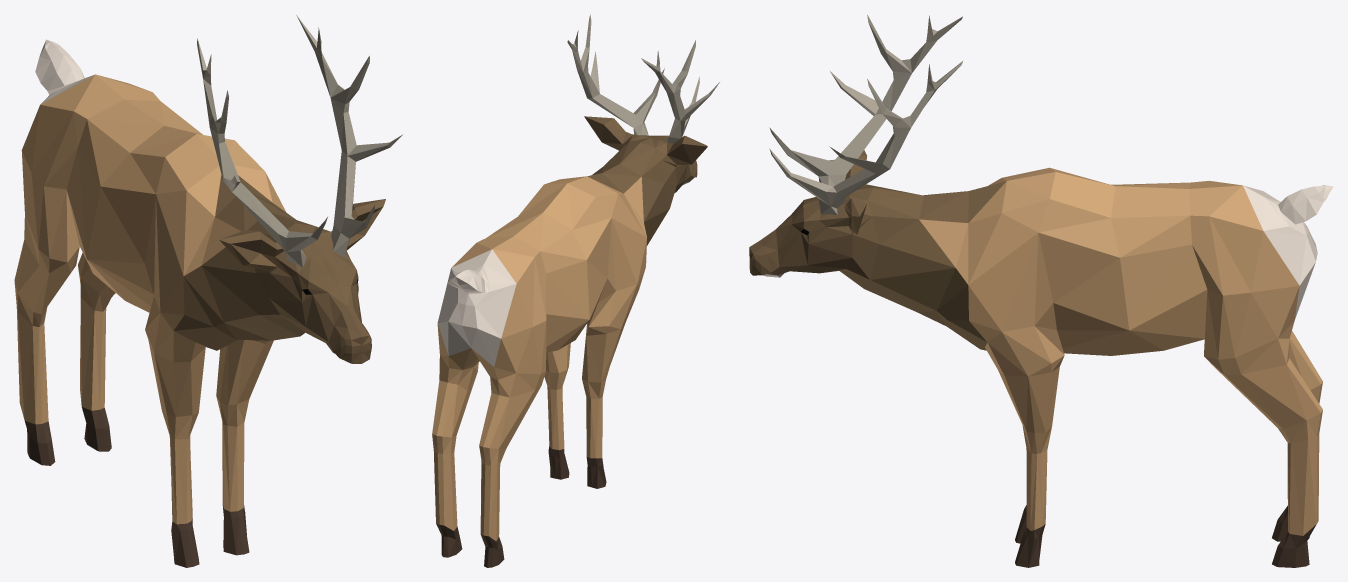
The model's file is elk_colorMap.obj.
3 renders of one model, left to right at view 1: azimuth 30°, elevation 25°; view 2: azimuth 150°, elevation 25°; view 3: azimuth 270°, elevation 25°, orthographic. The views are drawn at different scales.
Parts seen in each view (by area): view 1: polySurface1; view 2: polySurface1; view 3: polySurface1.
Boxes of the visible parts, bbox=[...] form: polySurface1: bbox=[14, 15, 402, 567]; polySurface1: bbox=[432, 14, 719, 567]; polySurface1: bbox=[749, 15, 1333, 567].
Size of the model in its own units: 37.54 by 118 by 122.
